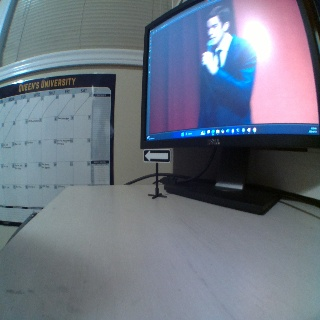sign_oneway_left: (142, 148, 170, 162)
